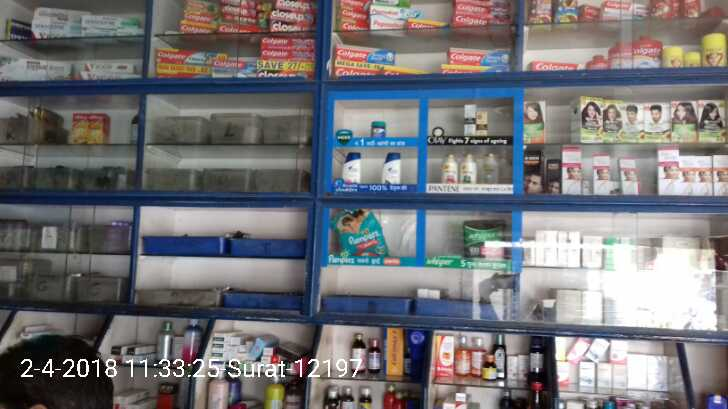vicks: (370, 121, 385, 137)
